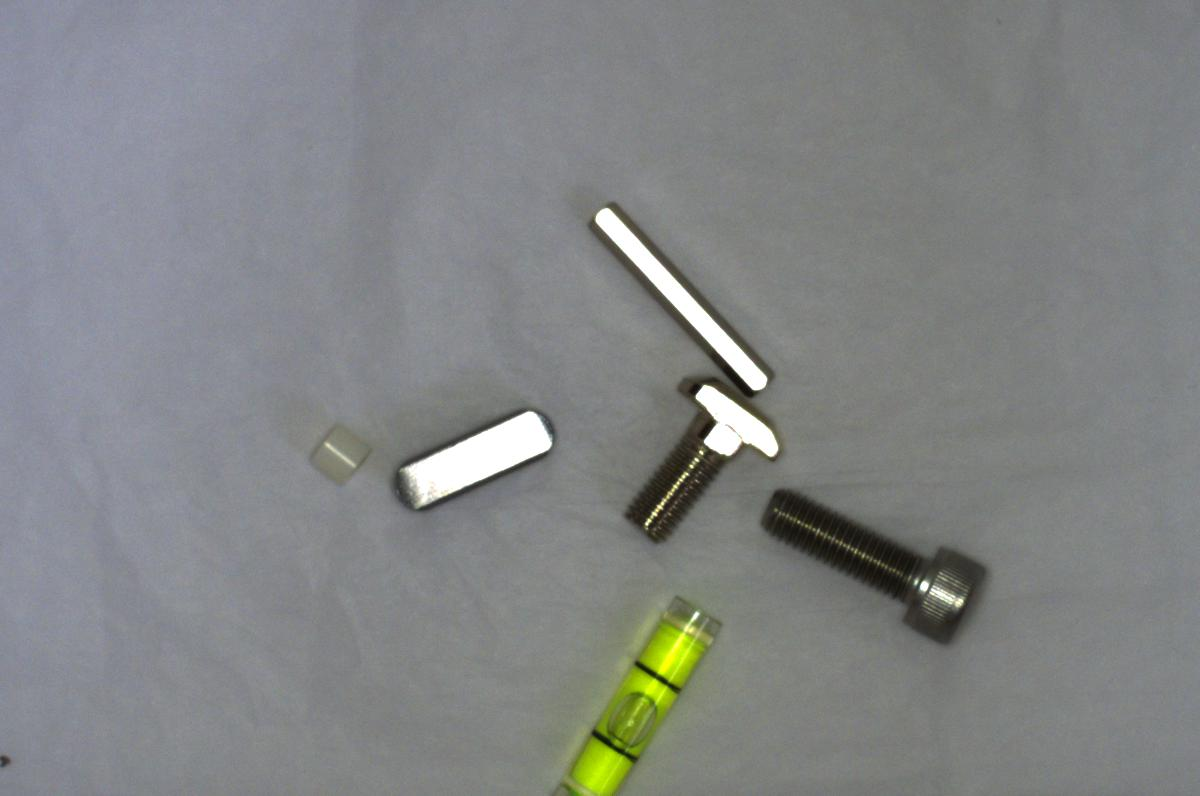Double hexagonal column: (584, 198, 778, 399)
Hexagon screw: (754, 492, 993, 642)
Horizontal bubble: (542, 589, 727, 795)
Keybar: (377, 395, 559, 521)
Plastic cushion pillar: (301, 421, 375, 492)
T-shaped screw: (621, 376, 780, 543)
